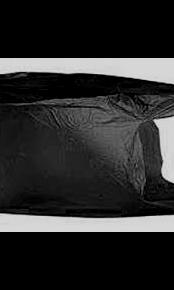Plastic: (0, 73, 173, 225)
